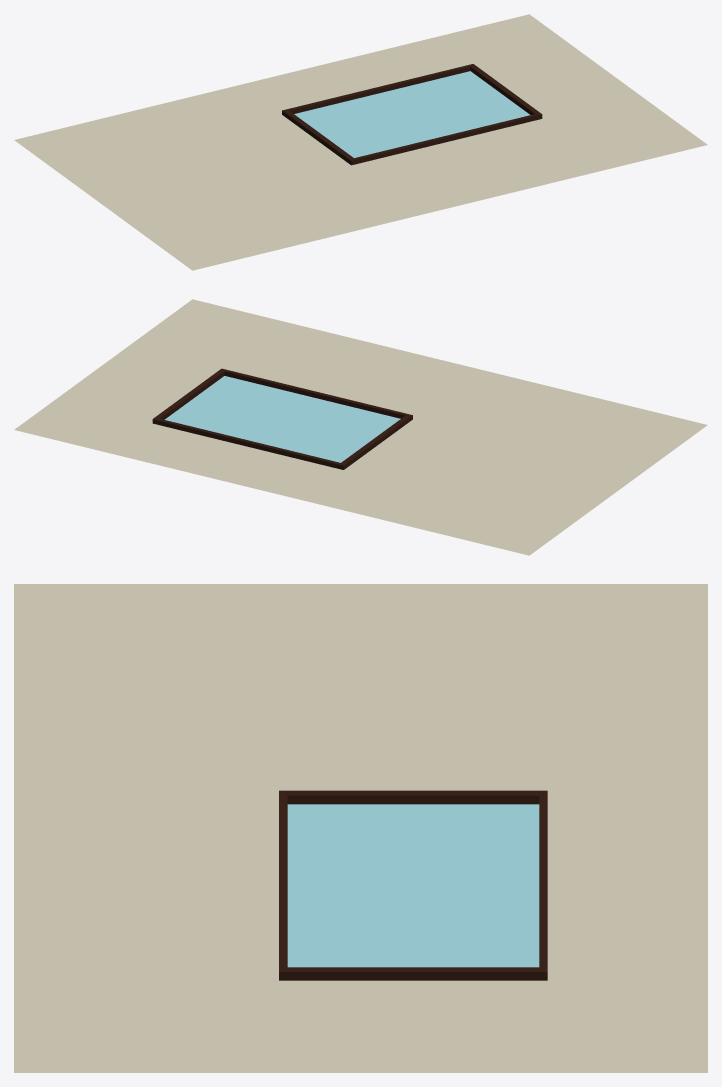
The model's file is window_wall.fbx.
3 views of the same model, one above another, from view 1: azimuth 30°, elevation 25°; view 2: azimuth 150°, elevation 25°; view 3: azimuth 270°, elevation 25° (orthographic). The views are drawn at different scales.
Visible parts, largest first — view 1: Plane.002; view 2: Plane.002; view 3: Plane.002.
Boxes of the visible parts, bbox=[...] form: Plane.002: bbox=[14, 14, 707, 270]; Plane.002: bbox=[14, 299, 707, 555]; Plane.002: bbox=[14, 584, 707, 1072].
Size of the model in its own units: 500 by 4.11 by 300.
